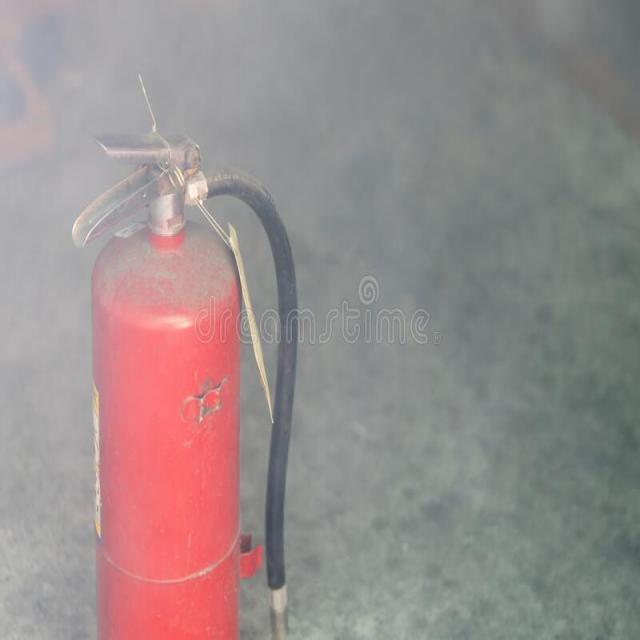fire_extinguisher: (68, 126, 299, 639)
